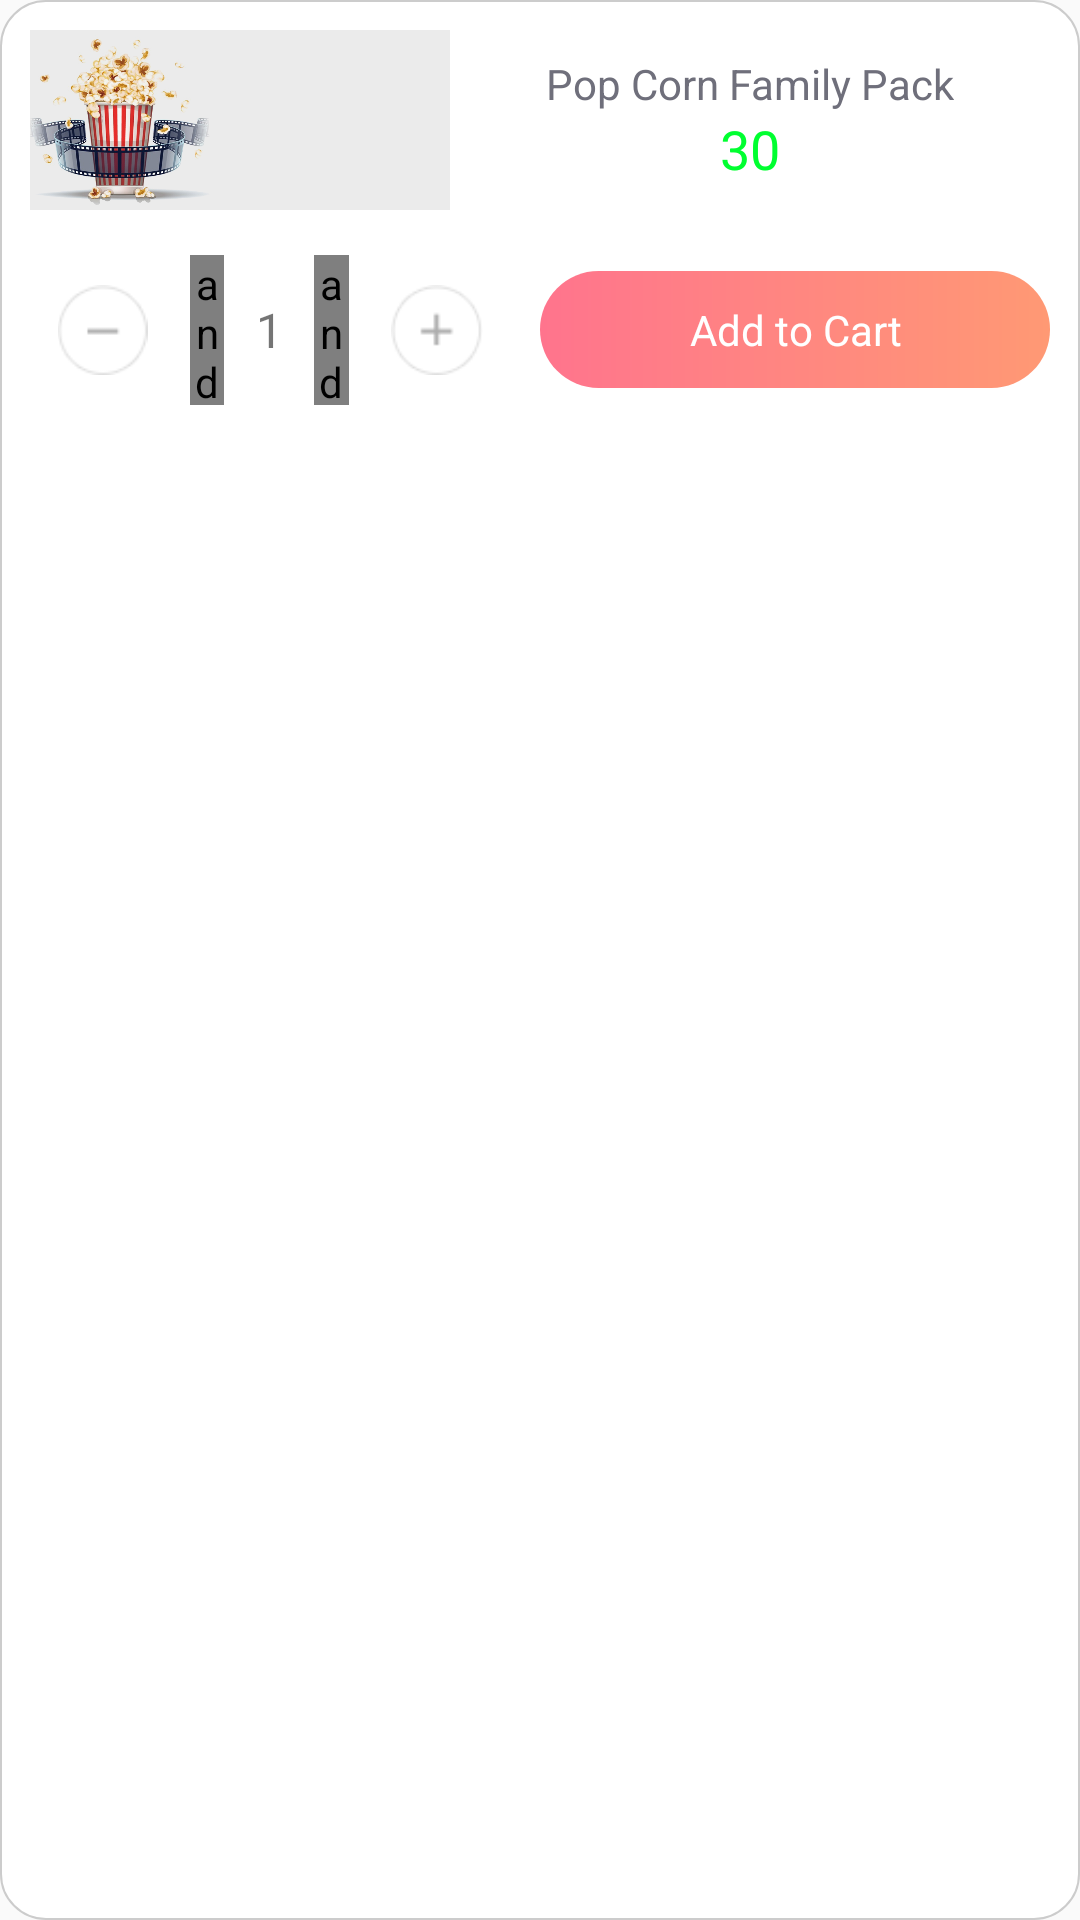

Locate icon controls on the screen. Image size 1080 × 1920, boxes as (x1, y1, x2, y2).
minus: (60, 288, 148, 375)
plus: (394, 288, 480, 375)
pop film: (30, 30, 210, 210)
